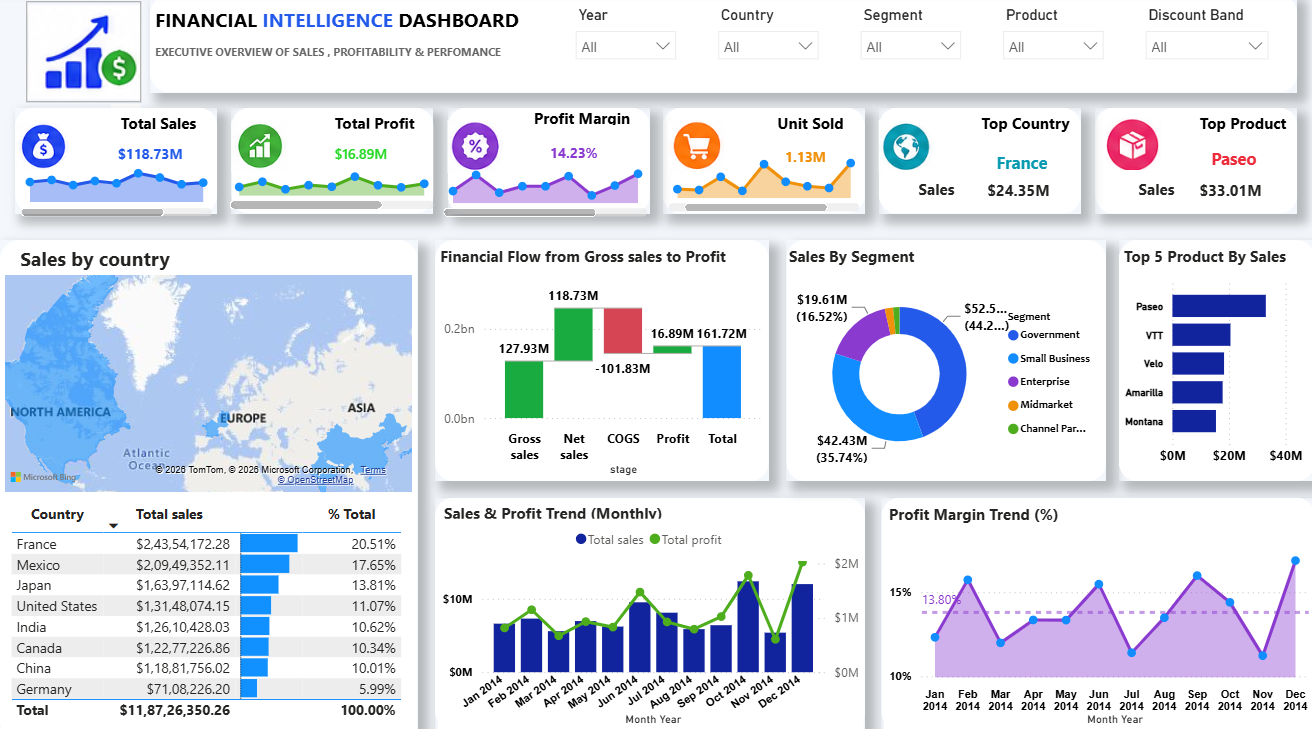

Layout of this report page (visuals, bound fields, positions):
{"tool":"powerbi","page":{"name":"Page 1","canvas":[1280,720],"ordinal":0},"visuals":[{"type":"shape","box":[144.8,0,1107.5,94.1],"z":0},{"type":"image","box":[25,6,111,98],"z":1000},{"type":"textbox","box":[144.8,6,374,36.2],"z":2000},{"type":"textbox","box":[144.8,39.8,352.3,30.2],"z":3000},{"type":"slicer","fields":{"Values":["Calender.Year"]},"box":[545.3,6,117,72.4],"z":4000},{"type":"slicer","fields":{"Values":["financials.Country"]},"box":[682.8,6,117,72.4],"z":5000},{"type":"slicer","fields":{"Values":["financials.Segment"]},"box":[820.4,6,117,72.4],"z":6000},{"type":"slicer","fields":{"Values":["financials.Product"]},"box":[957.9,6,117,72.4],"z":7000},{"type":"slicer","fields":{"Values":["financials.Discount Band"]},"box":[1095.4,6,138.7,72.4],"z":8000},{"type":"shape","box":[14.5,108.6,195.4,102.5],"z":9000},{"type":"shape","box":[223,108.6,195.4,102.5],"z":10000},{"type":"shape","box":[1056.8,108.6,195.4,102.5],"z":11000},{"type":"shape","box":[639.9,108.6,195.4,102.5],"z":12000},{"type":"shape","box":[848.4,108.6,195.4,102.5],"z":13000},{"type":"shape","box":[431.4,108.6,195.4,102.5],"z":14000},{"type":"textbox","box":[310.2,108.2,107.4,32.6],"z":15000},{"type":"textbox","box":[101,108.2,107.4,32.6],"z":16000},{"type":"textbox","box":[728.6,108.2,107.4,32.6],"z":17000},{"type":"textbox","box":[496.3,103.9,127.9,32.6],"z":18000},{"type":"textbox","box":[936.4,108.2,107.4,32.6],"z":19000},{"type":"textbox","box":[1145.6,108.2,107.4,32.6],"z":20000},{"type":"image","box":[14.4,118.3,53.4,56.3],"z":21000},{"type":"image","box":[223.6,118.3,53.4,56.3],"z":22000},{"type":"image","box":[1067.6,118.3,53.4,56.3],"z":23000},{"type":"image","box":[848.3,118.3,53.4,56.3],"z":24000},{"type":"image","box":[431.4,118.3,53.4,56.3],"z":25000},{"type":"image","box":[644.9,118.3,53.4,56.3],"z":26000},{"type":"cardVisual","fields":{"Data":["Measure.Total sales"]},"box":[80.8,125.5,128.4,53.4],"z":27000},{"type":"cardVisual","fields":{"Data":["Measure.Total profit"]},"box":[278.5,124.1,139.9,54.8],"z":28000},{"type":"cardVisual","fields":{"Data":["Measure.Profit Margin %"]},"box":[496.3,121.2,116.9,60.6],"z":29000},{"type":"cardVisual","fields":{"Data":["Measure.Unit sold"]},"box":[728.6,129.8,105.3,49.1],"z":30000},{"type":"cardVisual","fields":{"Data":["Measure.Top Country"]},"box":[924.8,129.8,122.6,60.6],"z":31000},{"type":"cardVisual","fields":{"Data":["Measure.Top Product"]},"box":[1139.8,131.3,112.5,50.5],"z":32000},{"type":"areaChart","fields":{"Y":["Measure.Total sales"],"Category":["Calender.Date"]},"box":[16,142.4,194,76.5],"z":33000},{"type":"areaChart","fields":{"Category":["Calender.Date"],"Y":["Measure.Total profit"]},"box":[217.1,145.9,206.5,65.9],"z":34000},{"type":"areaChart","fields":{"Category":["Calender.Date"],"Y":["Measure.Profit Margin %"]},"box":[423.6,149.5,206.5,69.4],"z":35000},{"type":"areaChart","fields":{"Category":["Calender.Date"],"Y":["Measure.Unit sold"]},"box":[640.7,140.6,194,73],"z":36000},{"type":"cardVisual","fields":{"Data":["Measure.Total sales"]},"box":[848.3,164.5,194.8,47.6],"z":37000},{"type":"textbox","box":[850.7,172.6,106.8,32],"z":38000},{"type":"cardVisual","fields":{"Data":["Measure.Total sales"]},"box":[1062.9,164.1,184.6,47.1],"z":39000},{"type":"textbox","box":[1062.9,172.5,106.8,32],"z":40000},{"type":"shape","box":[0,236.6,403,483.8],"z":41000},{"type":"shape","box":[419.8,236.5,322.1,232.8],"z":42000},{"type":"shape","box":[419.8,485,415,224.4],"z":43000},{"type":"shape","box":[758.9,236.5,308.8,232.8],"z":44000},{"type":"shape","box":[1079.8,236.5,189.4,232.8],"z":45000},{"type":"shape","box":[850.5,485,418.6,224.4],"z":46000},{"type":"textbox","box":[14.5,236.5,284.7,38.6],"z":47000},{"type":"filledMap","fields":{"Category":["financials.Country"]},"box":[0,265.5,402.5,219.3],"z":48000},{"type":"tableEx","fields":{"Values":["financials.Country","Measure.Total sales","Sum(financials. Sales)","Divide(Measure.Total sales, ScopedEval(Measure.Total sales, []))"]},"box":[4.8,485,398.1,235.3],"z":49000},{"type":"waterfallChart","fields":{"Category":["Financial flow.stage"],"Y":["Financial flow.Financial Flow Value"]},"box":[423.5,265.4,317.3,203.9],"z":49001},{"type":"textbox","box":[419.8,236.5,317.3,38.6],"z":49003},{"type":"donutChart","fields":{"Category":["financials.Segment"],"Y":["Measure.Total sales"]},"box":[758.9,262.6,308.8,206.3],"z":49004},{"type":"textbox","box":[756,236.6,191.8,38.6],"z":49006},{"type":"barChart","fields":{"Y":["Measure.Total sales"],"Category":["financials.Product"]},"box":[1079.2,265.5,183.2,197.7],"z":49007},{"type":"textbox","box":[1079.2,236.6,191.8,38.6],"z":49008},{"type":"textbox","box":[423.5,485,275.1,38.6],"z":49009},{"type":"lineClusteredColumnComboChart","fields":{"Category":["Calender.Month Year"],"Y":["Measure.Total sales"],"Y2":["Measure.Total profit"]},"box":[422.3,505.5,411.4,205.1],"z":49010},{"type":"textbox","box":[853,486.2,275.1,38.6],"z":49011},{"type":"areaChart","fields":{"Category":["Calender.Month Year"],"Y":["Measure.Profit Margin %"]},"box":[853,513.9,416.2,196.6],"z":49012}]}

Visuals, with their boxes in screenshot pixels (x1, y1, x2, y2), scaled from the page's 1280x720 canvas onto the 1312x729 screenshot:
shape: bbox(148, 0, 1284, 95)
image: bbox(26, 6, 139, 105)
textbox: bbox(148, 6, 532, 43)
textbox: bbox(148, 40, 510, 71)
slicer - Calender.Year: bbox(559, 6, 679, 79)
slicer - financials.Country: bbox(700, 6, 820, 79)
slicer - financials.Segment: bbox(841, 6, 961, 79)
slicer - financials.Product: bbox(982, 6, 1102, 79)
slicer - financials.Discount Band: bbox(1123, 6, 1265, 79)
shape: bbox(15, 110, 215, 214)
shape: bbox(229, 110, 429, 214)
shape: bbox(1083, 110, 1284, 214)
shape: bbox(656, 110, 856, 214)
shape: bbox(870, 110, 1070, 214)
shape: bbox(442, 110, 642, 214)
textbox: bbox(318, 110, 428, 143)
textbox: bbox(104, 110, 214, 143)
textbox: bbox(747, 110, 857, 143)
textbox: bbox(509, 105, 640, 138)
textbox: bbox(960, 110, 1070, 143)
textbox: bbox(1174, 110, 1284, 143)
image: bbox(15, 120, 69, 177)
image: bbox(229, 120, 284, 177)
image: bbox(1094, 120, 1149, 177)
image: bbox(870, 120, 924, 177)
image: bbox(442, 120, 497, 177)
image: bbox(661, 120, 716, 177)
cardVisual - Measure.Total sales: bbox(83, 127, 214, 181)
cardVisual - Measure.Total profit: bbox(285, 126, 429, 181)
cardVisual - Measure.Profit Margin %: bbox(509, 123, 629, 184)
cardVisual - Measure.Unit sold: bbox(747, 131, 855, 181)
cardVisual - Measure.Top Country: bbox(948, 131, 1074, 193)
cardVisual - Measure.Top Product: bbox(1168, 133, 1284, 184)
areaChart - Measure.Total sales x Calender.Date: bbox(16, 144, 215, 222)
areaChart - Calender.Date x Measure.Total profit: bbox(223, 148, 434, 214)
areaChart - Calender.Date x Measure.Profit Margin %: bbox(434, 151, 646, 222)
areaChart - Calender.Date x Measure.Unit sold: bbox(657, 142, 856, 216)
cardVisual - Measure.Total sales: bbox(870, 167, 1069, 215)
textbox: bbox(872, 175, 981, 207)
cardVisual - Measure.Total sales: bbox(1089, 166, 1279, 214)
textbox: bbox(1089, 175, 1199, 207)
shape: bbox(0, 240, 413, 728)
shape: bbox(430, 239, 760, 475)
shape: bbox(430, 491, 856, 718)
shape: bbox(778, 239, 1094, 475)
shape: bbox(1107, 239, 1301, 475)
shape: bbox(872, 491, 1301, 718)
textbox: bbox(15, 239, 307, 279)
filledMap - financials.Country: bbox(0, 269, 413, 491)
tableEx - financials.Country x Measure.Total sales: bbox(5, 491, 413, 728)
waterfallChart - Financial flow.stage x Financial flow.Financial Flow Value: bbox(434, 269, 759, 475)
textbox: bbox(430, 239, 756, 279)
donutChart - financials.Segment x Measure.Total sales: bbox(778, 266, 1094, 475)
textbox: bbox(775, 240, 971, 279)
barChart - Measure.Total sales x financials.Product: bbox(1106, 269, 1294, 469)
textbox: bbox(1106, 240, 1303, 279)
textbox: bbox(434, 491, 716, 530)
lineClusteredColumnComboChart - Calender.Month Year x Measure.Total sales: bbox(433, 512, 855, 719)
textbox: bbox(874, 492, 1156, 531)
areaChart - Calender.Month Year x Measure.Profit Margin %: bbox(874, 520, 1301, 719)
